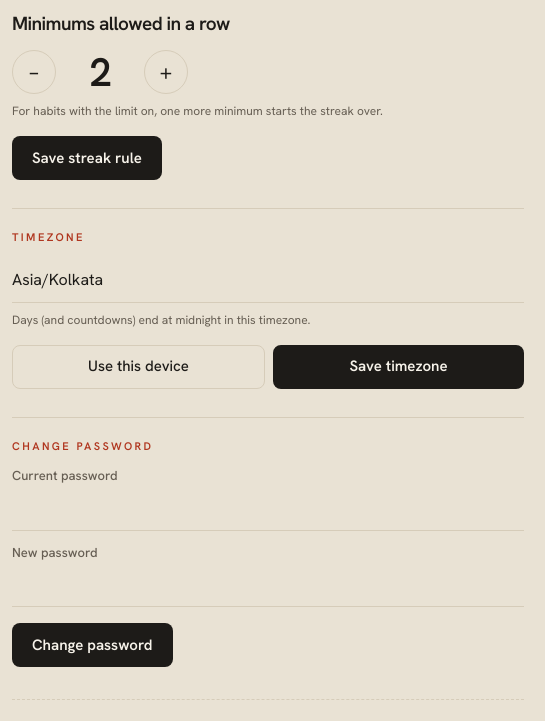
AccountPage › shows a wrong current password
The width and height of the screenshot is (545, 721).
(page scrolled)
Type "nope-nope" into the password field labelled "Current password" at (268, 508), box [12, 486, 524, 530]
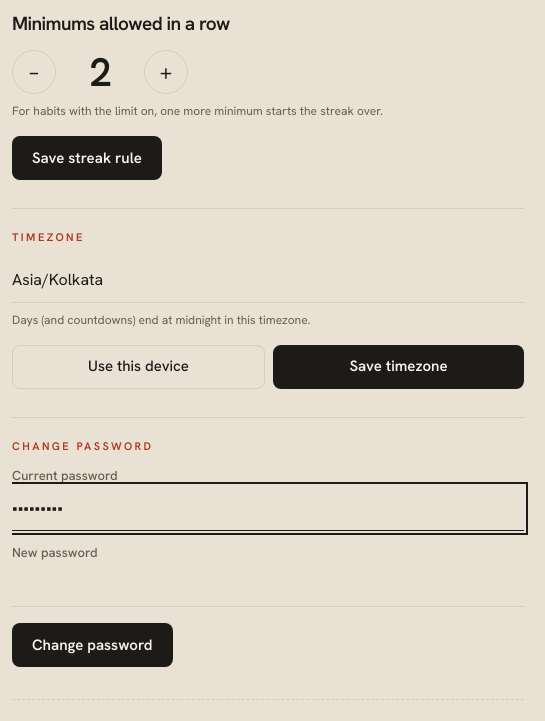
Type "new-password" into the password field labelled "New password" at (268, 584), box [12, 562, 524, 607]
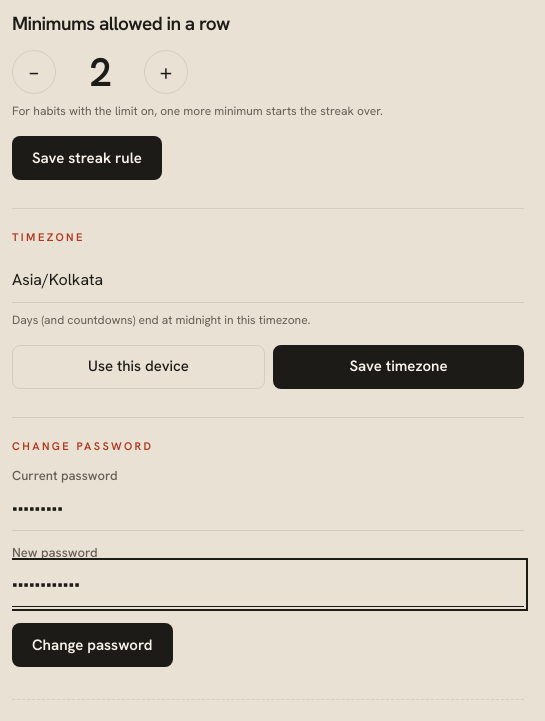
Click the button "Change password" at (92, 645), box [12, 623, 172, 667]
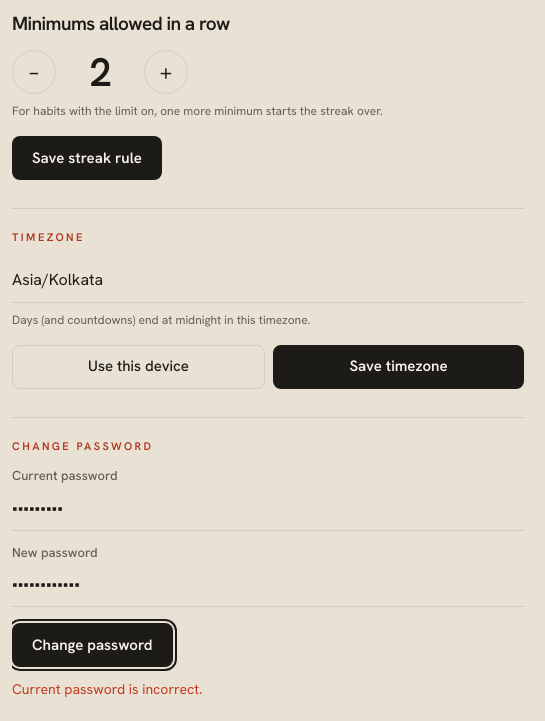
Check: the message reads "Current password is incorrect.", box [12, 680, 202, 698]
